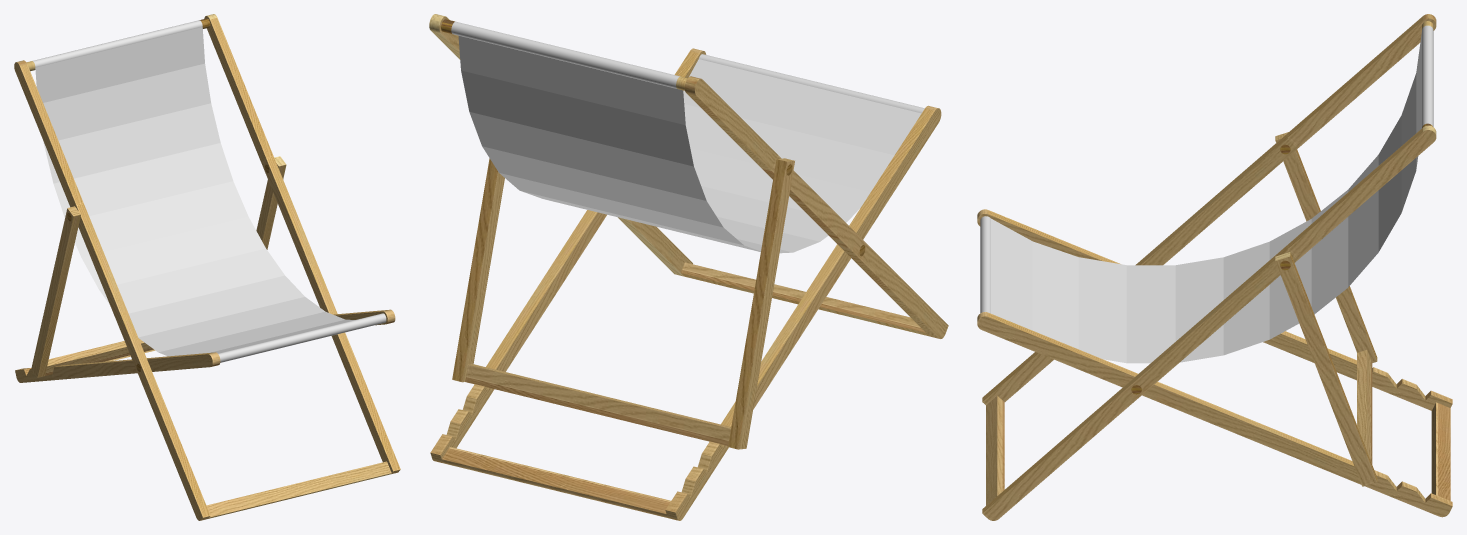
File: tumbona-pino.glb
The picture shows the model from 3 angles, left to right: view 1: azimuth 30°, elevation 25°; view 2: azimuth 150°, elevation 25°; view 3: azimuth 270°, elevation 25°; orthographic projection. The views are drawn at different scales.
Bounding box in the file's own units: 0.56 × 0.8189 × 0.9011.
5 materials, 4 textured.
